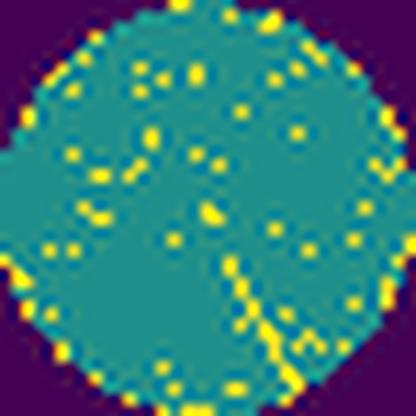Scratch: (218, 251, 308, 396)
